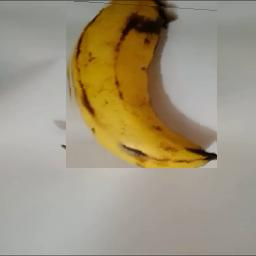Banana Semifresh: (66, 0, 217, 168)
